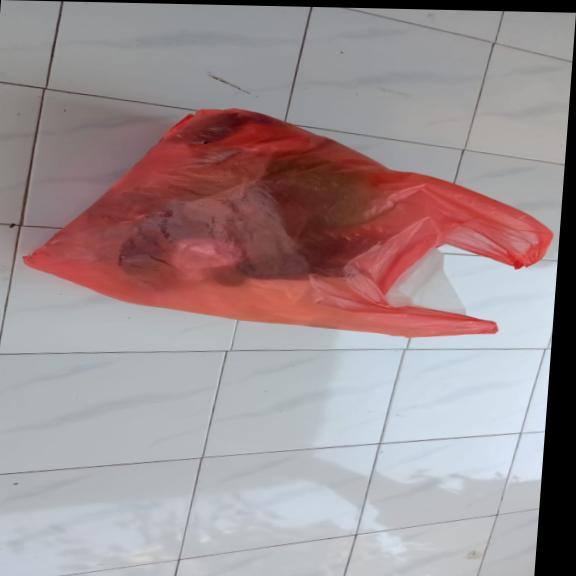Plastik: (15, 103, 561, 341)
